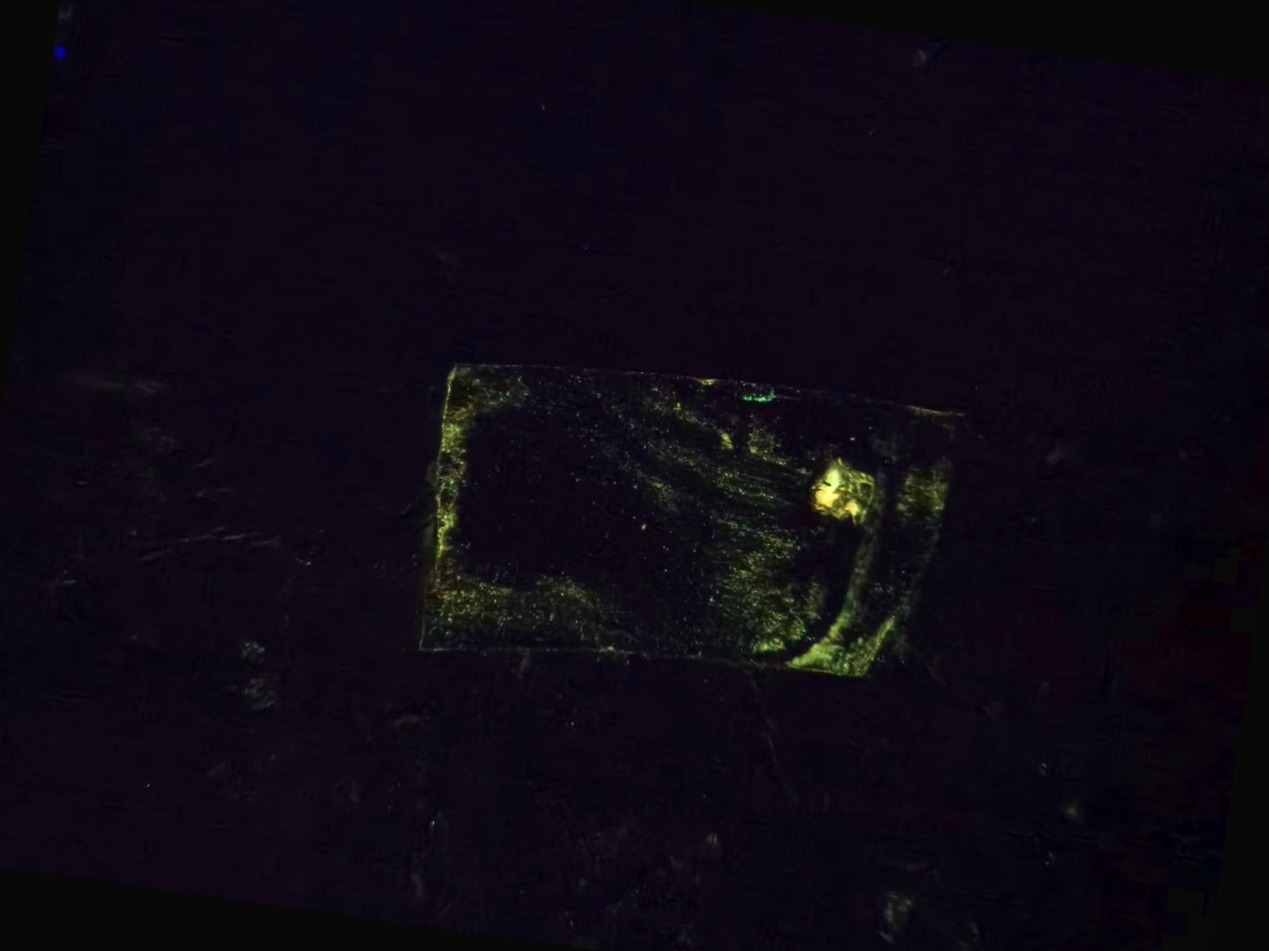Crater: (780, 428, 895, 549)
